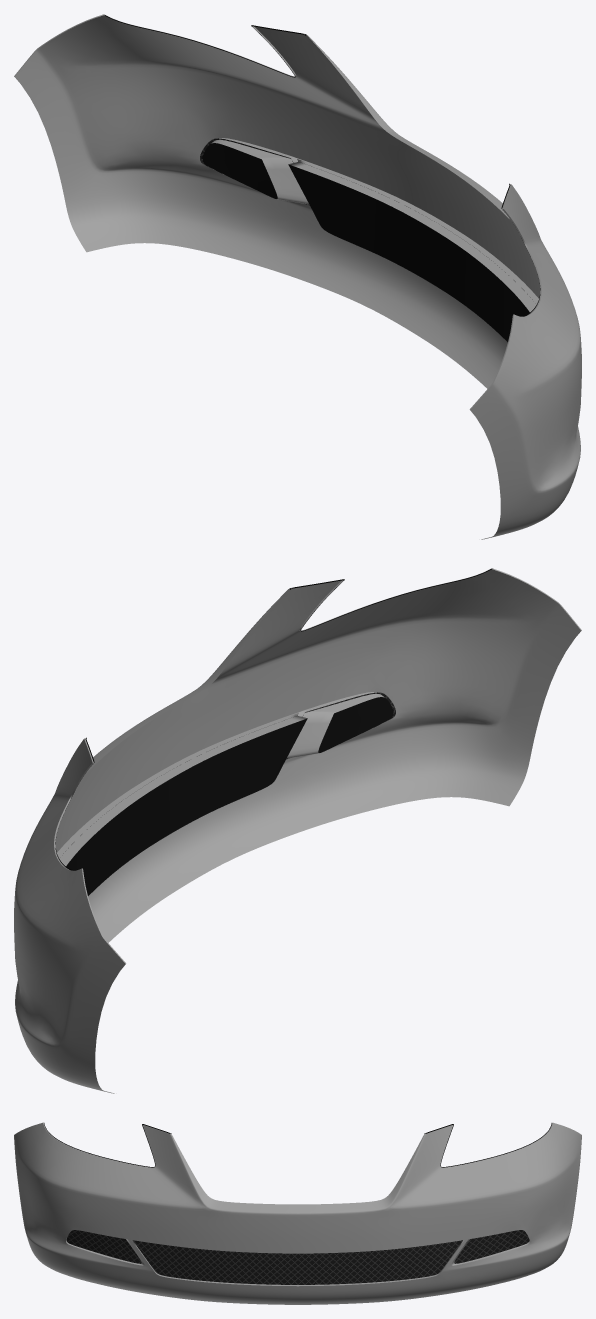
The picture shows the model from 3 angles, top to bottom: view 1: azimuth 30°, elevation 25°; view 2: azimuth 150°, elevation 25°; view 3: azimuth 270°, elevation 25°; orthographic projection. The views are drawn at different scales.
Visible parts, largest first — view 1: H612_021G_C_3_DaS_H612_021G_C, H612_021G_C_H612_021G_C_1_D, H612_021G_C_3_DaS_H612_021G_C_E; view 2: H612_021G_C_3_DaS_H612_021G_C, H612_021G_C_H612_021G_C_1_D, H612_021G_C_3_DaS_H612_021G_C_E; view 3: H612_021G_C_3_DaS_H612_021G_C, H612_021G_C_H612_021G_C_2_D, H612_021G_C_3_DaS_H612_021G_C_E, H612_021G_C_H612_021G_C_4_D.
Part boxes in pixels (left/top/right/bottom): H612_021G_C_3_DaS_H612_021G_C: left=14, top=15, right=581, bottom=539; H612_021G_C_H612_021G_C_1_D: left=202, top=143, right=529, bottom=341; H612_021G_C_3_DaS_H612_021G_C_E: left=14, top=14, right=541, bottom=409; H612_021G_C_3_DaS_H612_021G_C: left=14, top=569, right=581, bottom=1093; H612_021G_C_H612_021G_C_1_D: left=66, top=697, right=393, bottom=895; H612_021G_C_3_DaS_H612_021G_C_E: left=54, top=568, right=581, bottom=963; H612_021G_C_3_DaS_H612_021G_C: left=14, top=1122, right=581, bottom=1304; H612_021G_C_H612_021G_C_2_D: left=66, top=1230, right=529, bottom=1284; H612_021G_C_3_DaS_H612_021G_C_E: left=43, top=1122, right=552, bottom=1286; H612_021G_C_H612_021G_C_4_D: left=44, top=1123, right=551, bottom=1167.
Size of the model in its own units: 63.78 by 65.03 by 210.
